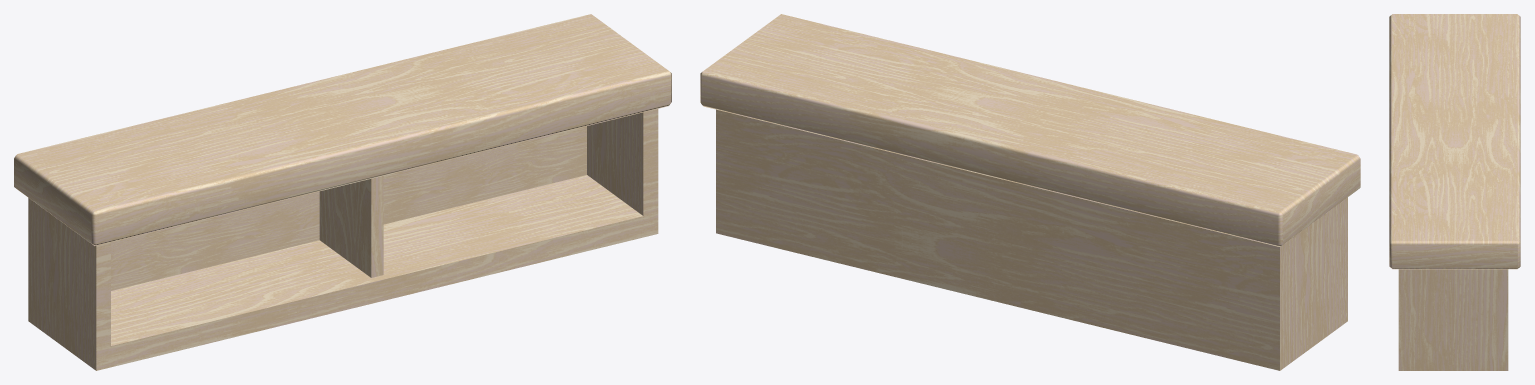
Rendered from wall_cabinet_028.fbx.
3 renders of one model, left to right at view 1: azimuth 30°, elevation 25°; view 2: azimuth 150°, elevation 25°; view 3: azimuth 270°, elevation 25°, orthographic. The views are drawn at different scales.
Visible parts, largest first — view 1: wall_cabinet_028; view 2: wall_cabinet_028; view 3: wall_cabinet_028.
Boxes of the visible parts, x1,y1,x2,y2 form: wall_cabinet_028: [14, 14, 671, 370]; wall_cabinet_028: [700, 14, 1360, 370]; wall_cabinet_028: [1389, 14, 1520, 370].
Bounding box in the file's own units: 216 × 52.32 × 58.45.
